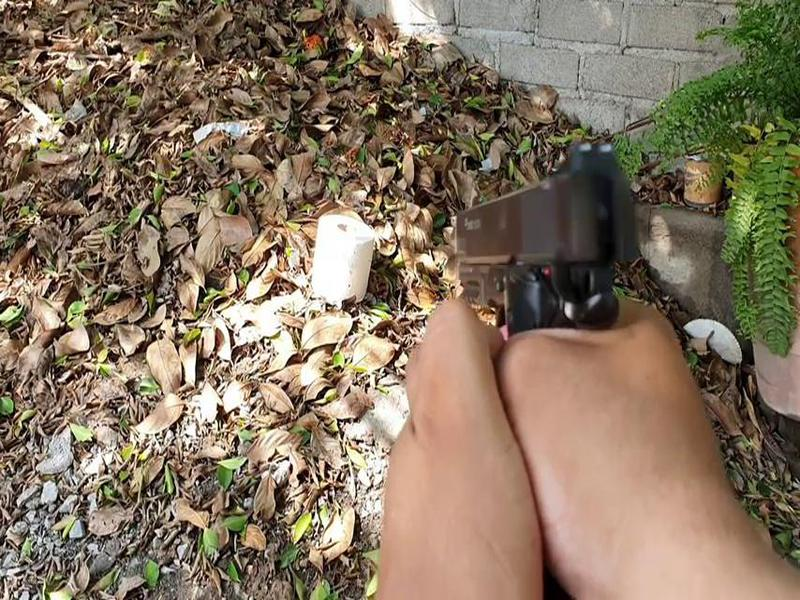Pistola: (429, 111, 677, 388)
